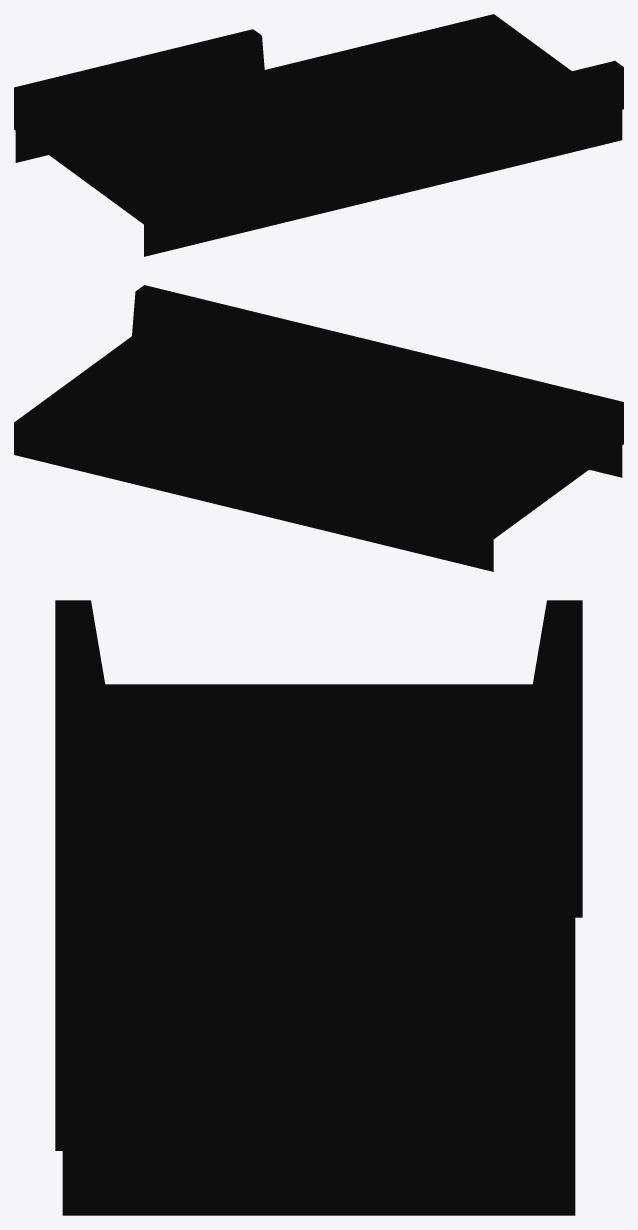
Rendered from Chunk11.obj.
3 views of the same model, one above another, from view 1: azimuth 30°, elevation 25°; view 2: azimuth 150°, elevation 25°; view 3: azimuth 270°, elevation 25° (orthographic). The views are drawn at different scales.
Size of the model in its own units: 194 by 28.75 by 92.5.
